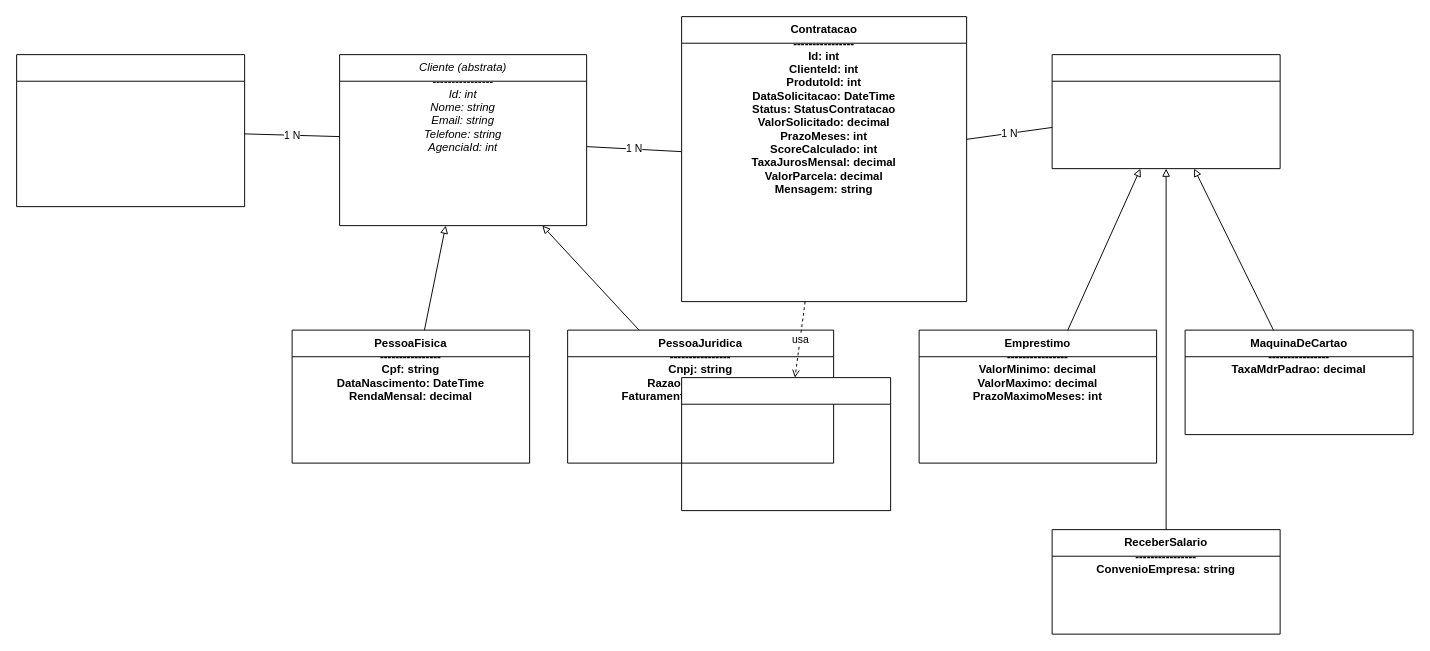
Image size: 1430x651. Some labels were removed from this diagram. The shapes that lost their labels are listed below. From the top down, each one's centre as x and y in pixels, then its label:
At point (130, 130): "Agencia ---------------- Id: int Numero: string Nome: string Endereco: string".
At point (1165, 111): "Produto (abstrata) ---------------- Id: int Nome: string".
At point (786, 444): "StatusContratacao ---------------- Pendente Aprovada Reprovada Falhou".
